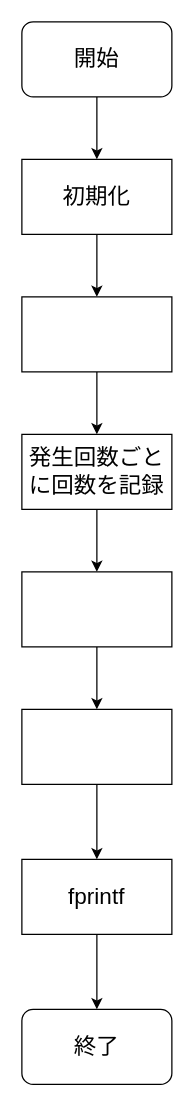
Some shapes in this 194 by 1106 pixel diagram are drawn without their labels. Each missing label, with the box of its shape:
fopen: (21, 708, 172, 784)
zipfをそれぞれコンテンツ事に求める: (21, 296, 172, 372)
発生回数ごとに確率を計算: (21, 571, 172, 647)
